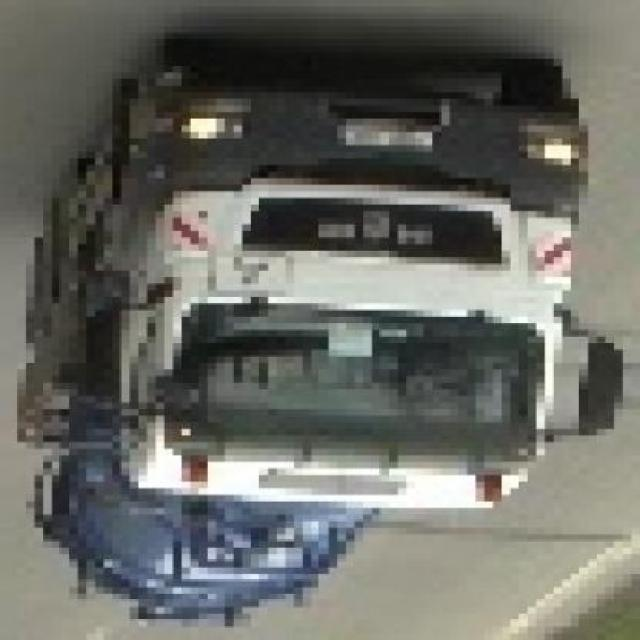truck: (10, 60, 633, 628)
